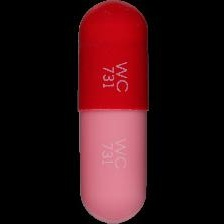60429-022: (0, 0, 224, 224)
